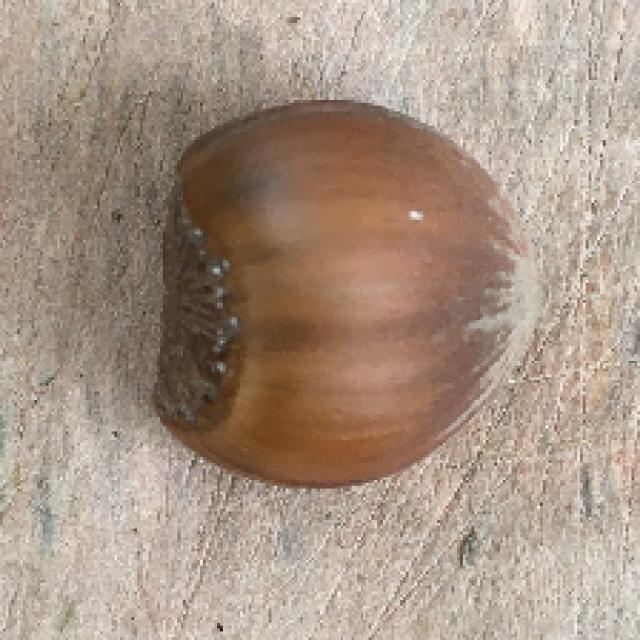qualityHazelnut: (147, 97, 544, 492)
